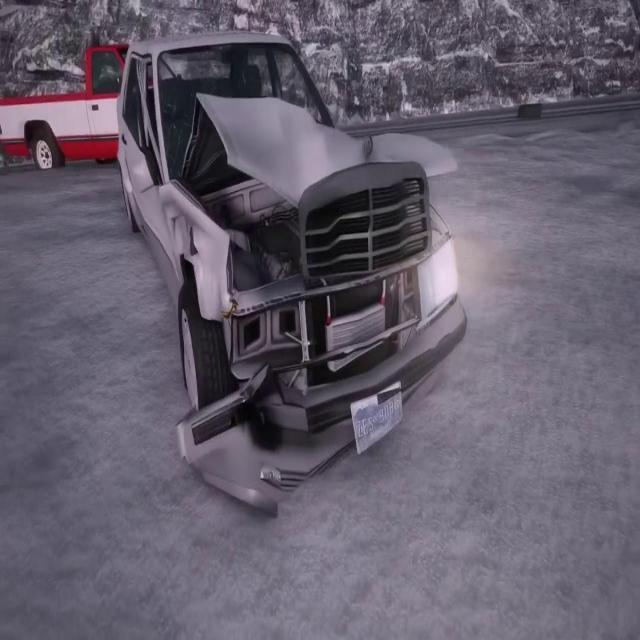moderate: (118, 35, 470, 528)
